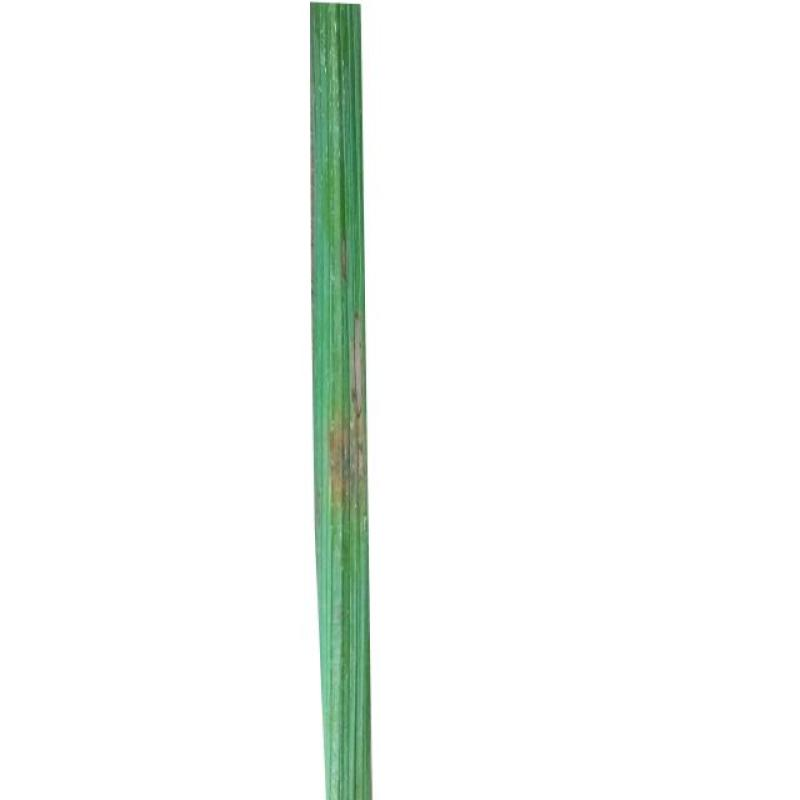Leaf_Blast: (330, 304, 362, 515), (342, 238, 347, 282)
